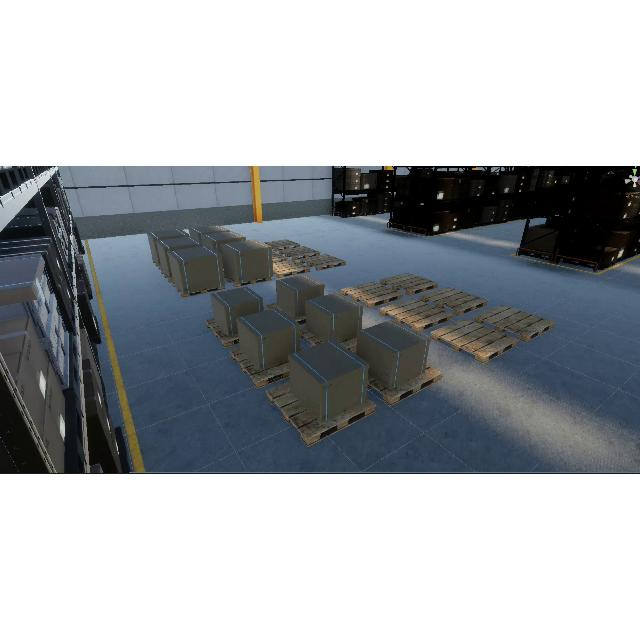wooden_pallet: (265, 382, 376, 449), (430, 318, 519, 363), (473, 301, 555, 343), (367, 364, 441, 404), (230, 345, 289, 390), (380, 298, 453, 334), (421, 286, 489, 316), (339, 281, 404, 309), (380, 272, 438, 296), (204, 317, 239, 347), (172, 280, 226, 298), (300, 254, 346, 271), (224, 272, 273, 287), (273, 259, 311, 278), (279, 246, 320, 260), (263, 239, 301, 251), (272, 251, 288, 263)
